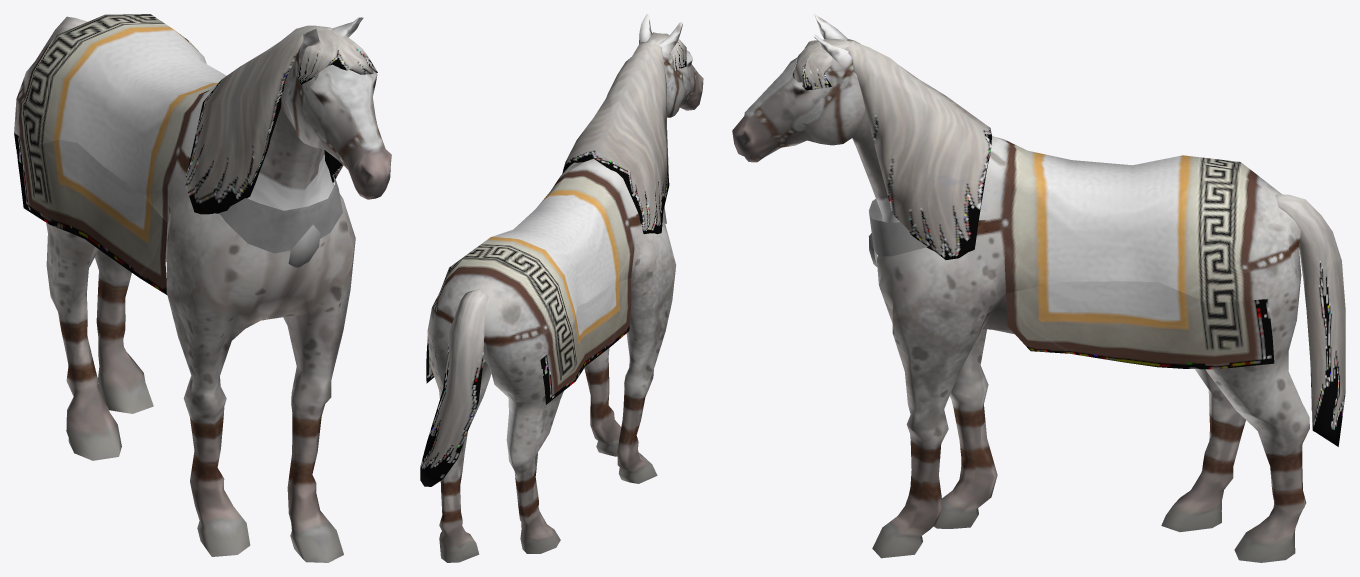
File: body-championcavalry.glb
3 views of the same model, side by side, from view 1: azimuth 30°, elevation 25°; view 2: azimuth 150°, elevation 25°; view 3: azimuth 270°, elevation 25° (orthographic). The views are drawn at different scales.
Size of the model in its own units: 0.7855 by 2.5 by 2.7.
1 material, 1 textured.
